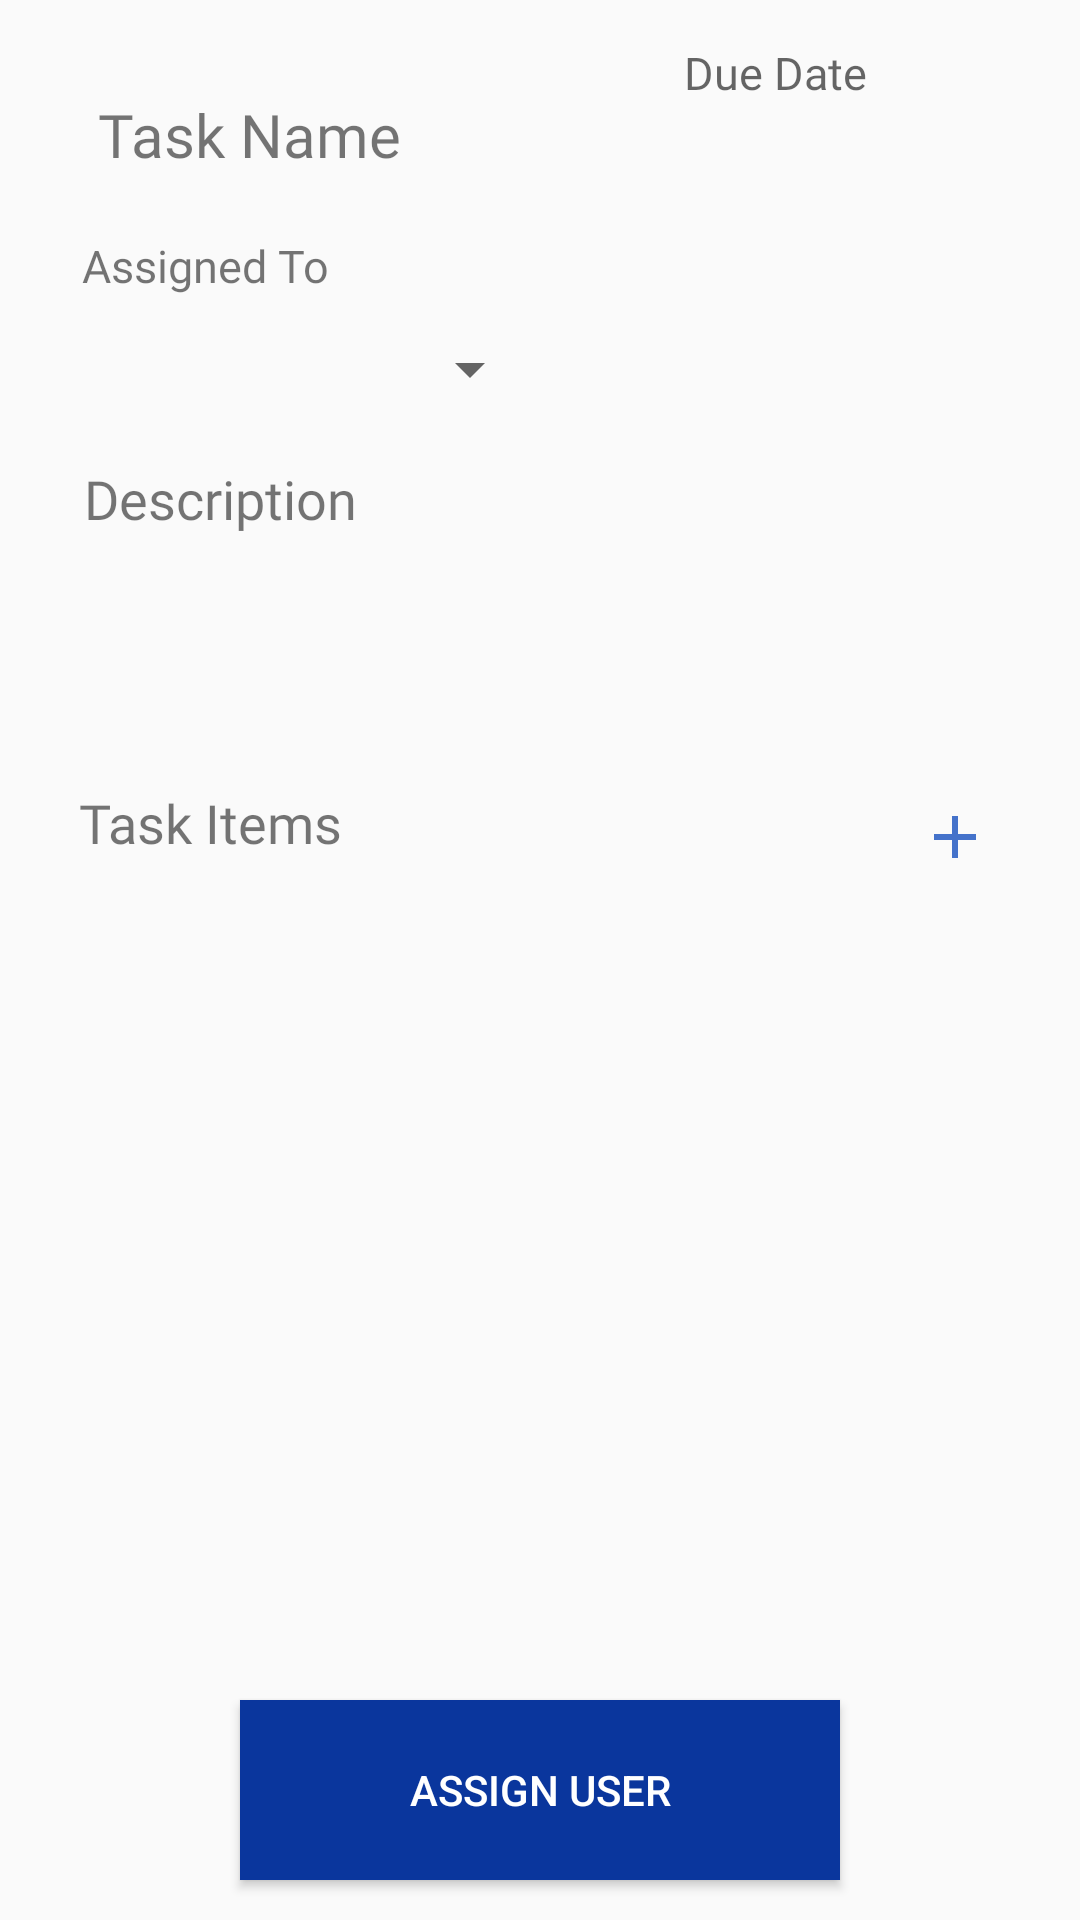

Icons on this 1080w x 1920h Android screen, each with its box as region(x1, y1, x2, y2):
add: region(934, 816, 976, 858)
